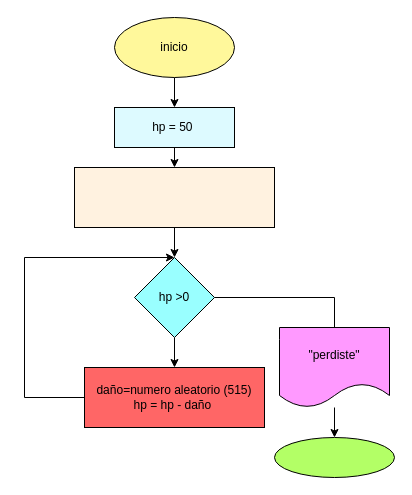
The diagram is 412 pixels wide and 495 high, and some of its shapes have lost their labels. Here are the shapes that lost their labels. From the top down, the box of each, then its label:
(74, 166, 274, 228): daño=nuimeroaleatorio(5,15) hp = hp - daño
(274, 436, 394, 478): fin
